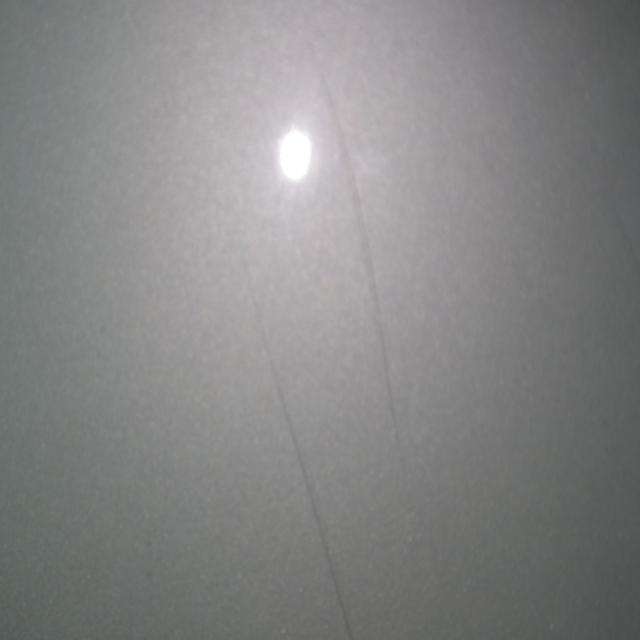scratch: (240, 231, 354, 639), (308, 42, 407, 486)
